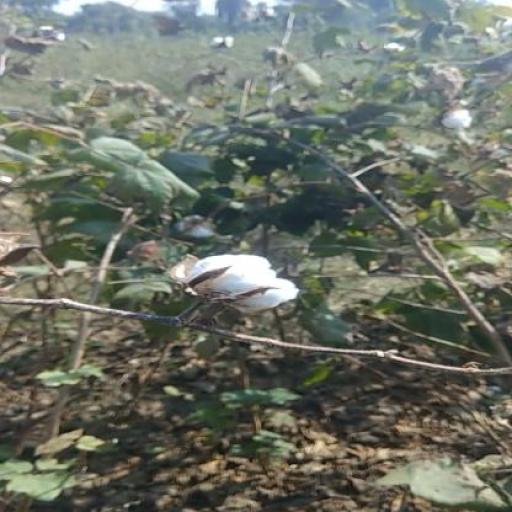cotton_ready: (137, 235, 305, 350)
